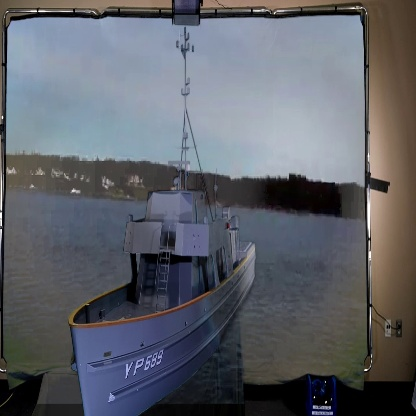YP689: (64, 28, 259, 416)
